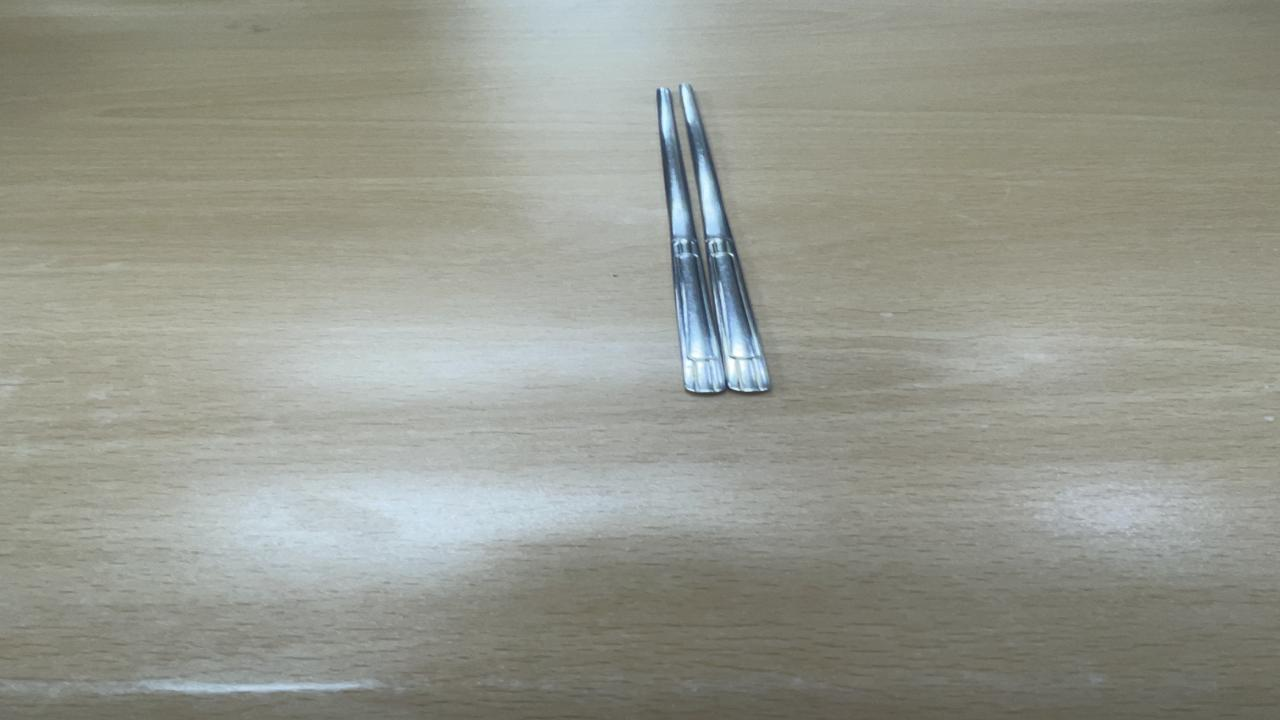chopstick: (649, 81, 778, 397)
